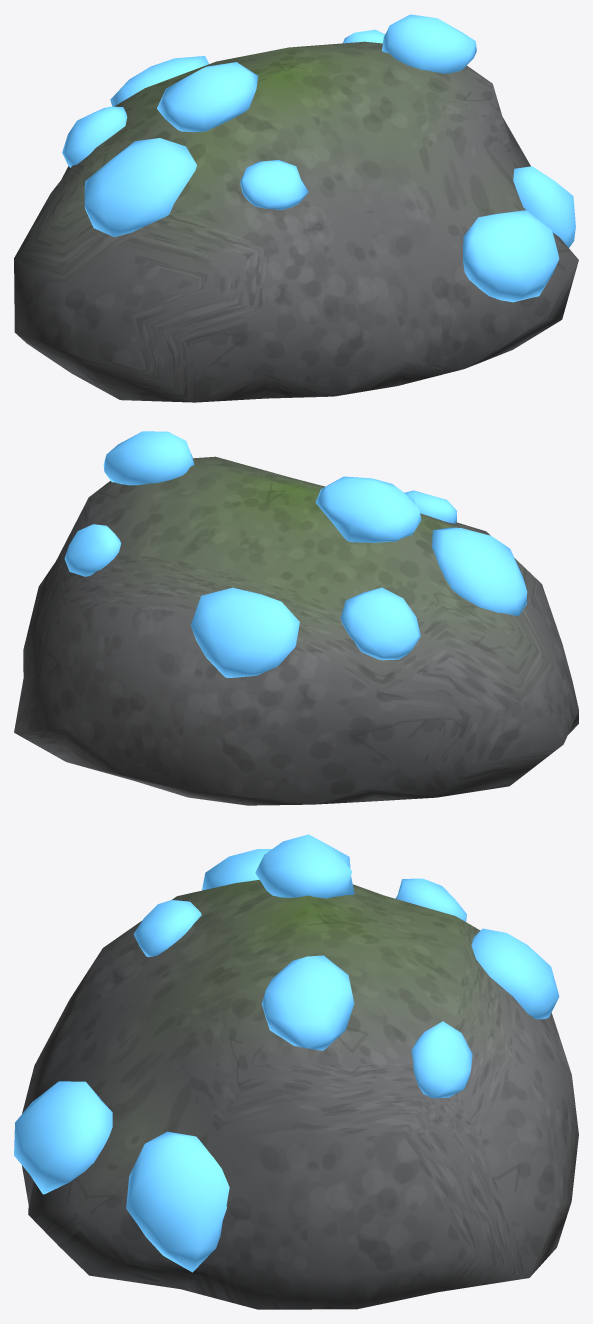
The model's file is ore_mithril_boulder.glb.
3 views of the same model, one above another, from view 1: azimuth 30°, elevation 25°; view 2: azimuth 150°, elevation 25°; view 3: azimuth 270°, elevation 25° (orthographic). The views are drawn at different scales.
Visible parts, largest first — view 1: ore_mithril_stone, ore_mithril; view 2: ore_mithril_stone, ore_mithril; view 3: ore_mithril_stone, ore_mithril.
Part boxes in pixels (<box>): ore_mithril_stone: <box>14,41,578,402</box>; ore_mithril: <box>62,14,575,302</box>; ore_mithril_stone: <box>14,456,578,805</box>; ore_mithril: <box>64,431,527,677</box>; ore_mithril_stone: <box>22,880,578,1309</box>; ore_mithril: <box>14,834,559,1272</box>.
Bounding box in the file's own units: 2.3 × 1.12 × 1.87.
Materials: 2 (1 with a texture image).
